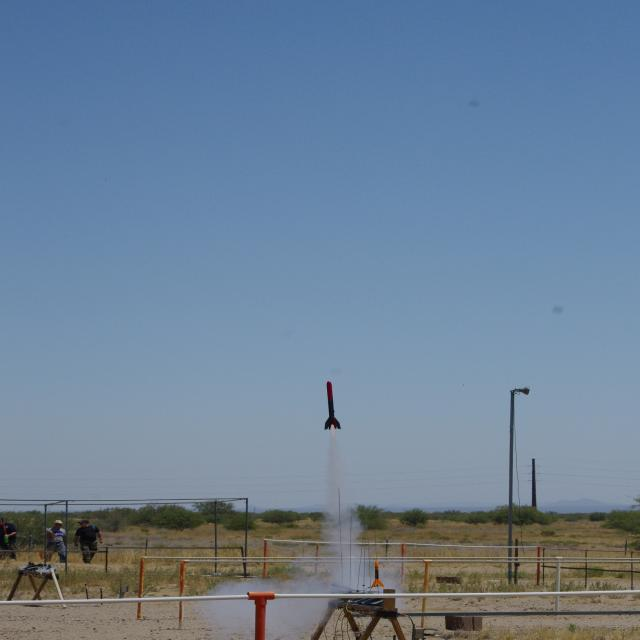Rocket: (324, 381, 342, 430), (371, 561, 385, 588)
